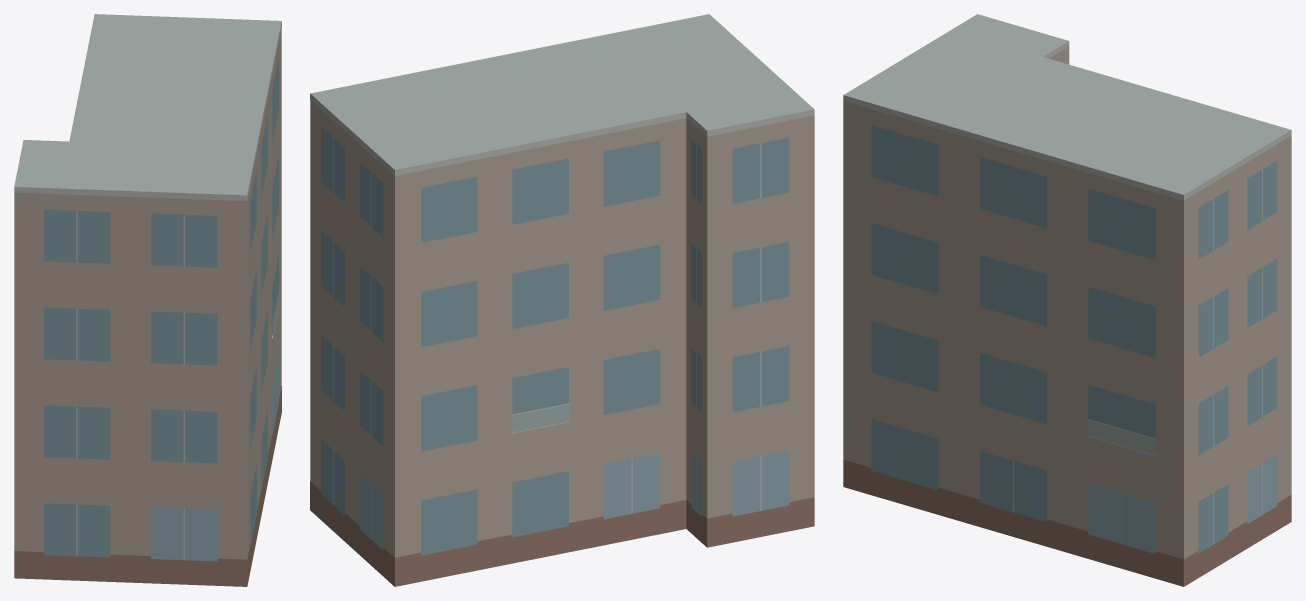
The model's file is survey-upis-32988431.glb.
The picture shows the model from 3 angles, left to right: view 1: azimuth 30°, elevation 25°; view 2: azimuth 150°, elevation 25°; view 3: azimuth 270°, elevation 25°; orthographic projection. The views are drawn at different scales.
Parts seen in each view (by area): view 1: survey-upis-32988431.tmp; view 2: survey-upis-32988431.tmp; view 3: survey-upis-32988431.tmp.
Boxes of the visible parts, left/top/right/bottom form: survey-upis-32988431.tmp: left=14, top=14, right=281, bottom=586; survey-upis-32988431.tmp: left=310, top=14, right=814, bottom=586; survey-upis-32988431.tmp: left=843, top=14, right=1291, bottom=586.
Bounding box in the file's own units: 16.46 × 16.6 × 17.22.
